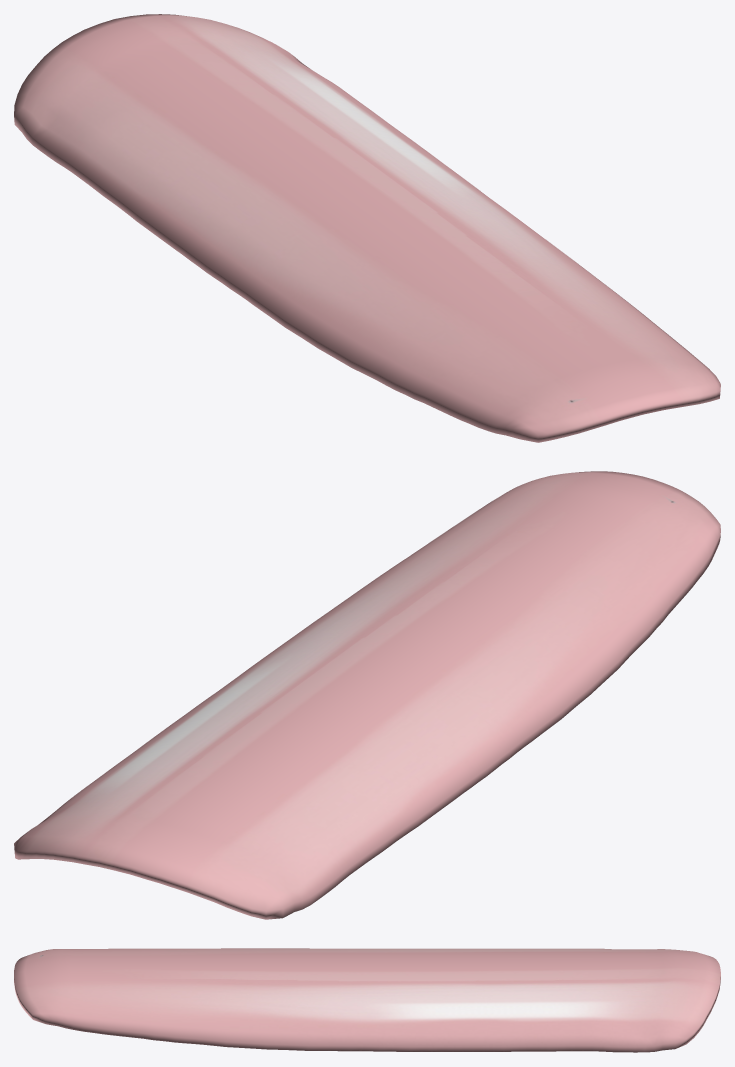
Rendered from Acrylic nails.fbx.
3 renders of one model, top to bottom at view 1: azimuth 30°, elevation 25°; view 2: azimuth 150°, elevation 25°; view 3: azimuth 270°, elevation 25°, orthographic. The views are drawn at different scales.
Parts seen in each view (by area): view 1: New Acrylic nail_ normal.002; view 2: New Acrylic nail_ normal.002; view 3: New Acrylic nail_ normal.002.
Boxes of the visible parts, x1,y1,x2,y2 form: New Acrylic nail_ normal.002: (14,14,720,442); New Acrylic nail_ normal.002: (14,471,720,919); New Acrylic nail_ normal.002: (14,948,720,1052).
Size of the model in its own units: 82.43 by 16.99 by 268.
1 material, 1 textured.
